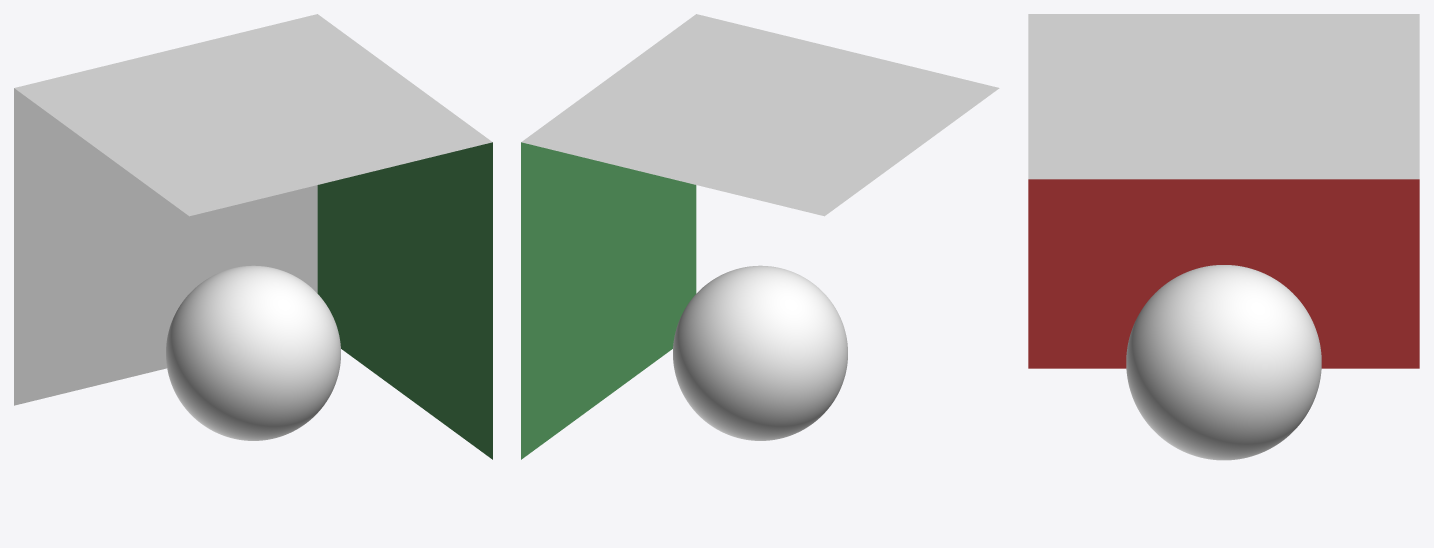
Rendered from cornell_glass_sphere.gltf.
3 views of the same model, side by side, from view 1: azimuth 30°, elevation 25°; view 2: azimuth 150°, elevation 25°; view 3: azimuth 270°, elevation 25° (orthographic). The views are drawn at different scales.
Bounding box in the file's own units: 2 × 2 × 2.
